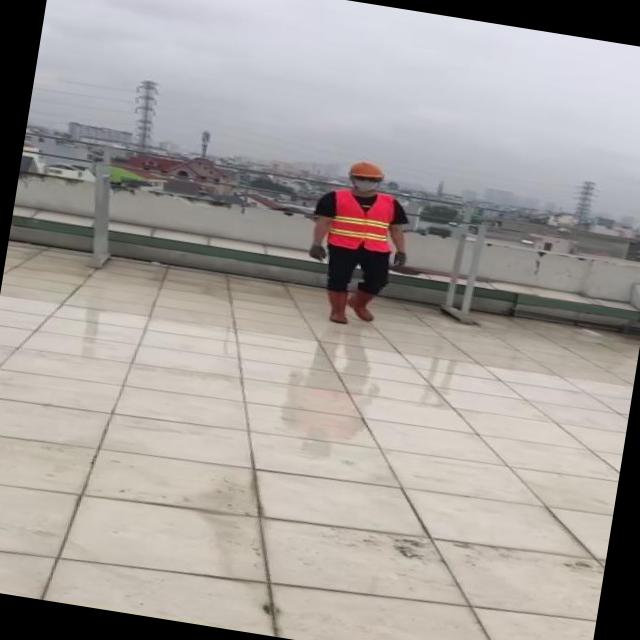hard_hat: (348, 157, 386, 180)
safety_vest: (326, 188, 396, 255)
vehicle: (294, 150, 427, 336)
work_boots: (391, 250, 412, 274), (308, 242, 330, 262)
